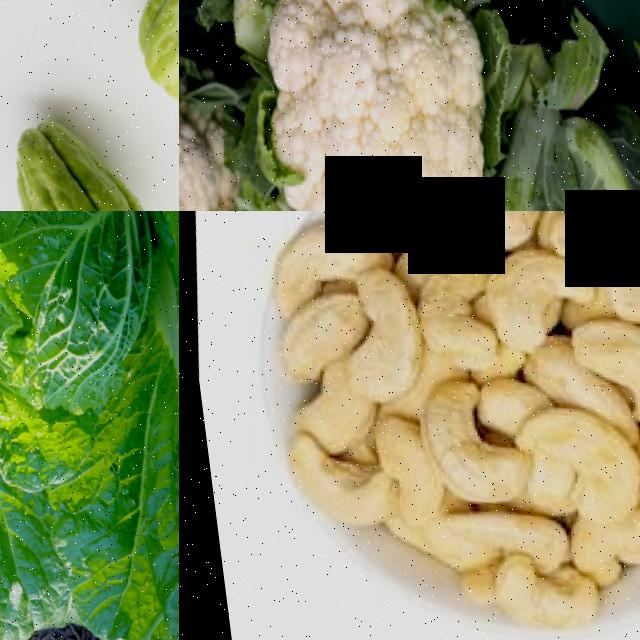cabbage: (0, 211, 179, 509)
cashew: (381, 365, 518, 523), (315, 262, 436, 422), (224, 460, 395, 551), (525, 211, 640, 323), (526, 417, 640, 521), (432, 564, 585, 640), (463, 249, 567, 354), (396, 266, 487, 372), (561, 499, 640, 605), (556, 322, 640, 420), (259, 303, 354, 372), (291, 387, 375, 455), (357, 211, 463, 256), (424, 211, 543, 245)
cauliflower: (199, 0, 529, 211), (179, 3, 281, 211)
chayote: (0, 63, 179, 211), (59, 0, 179, 114)
